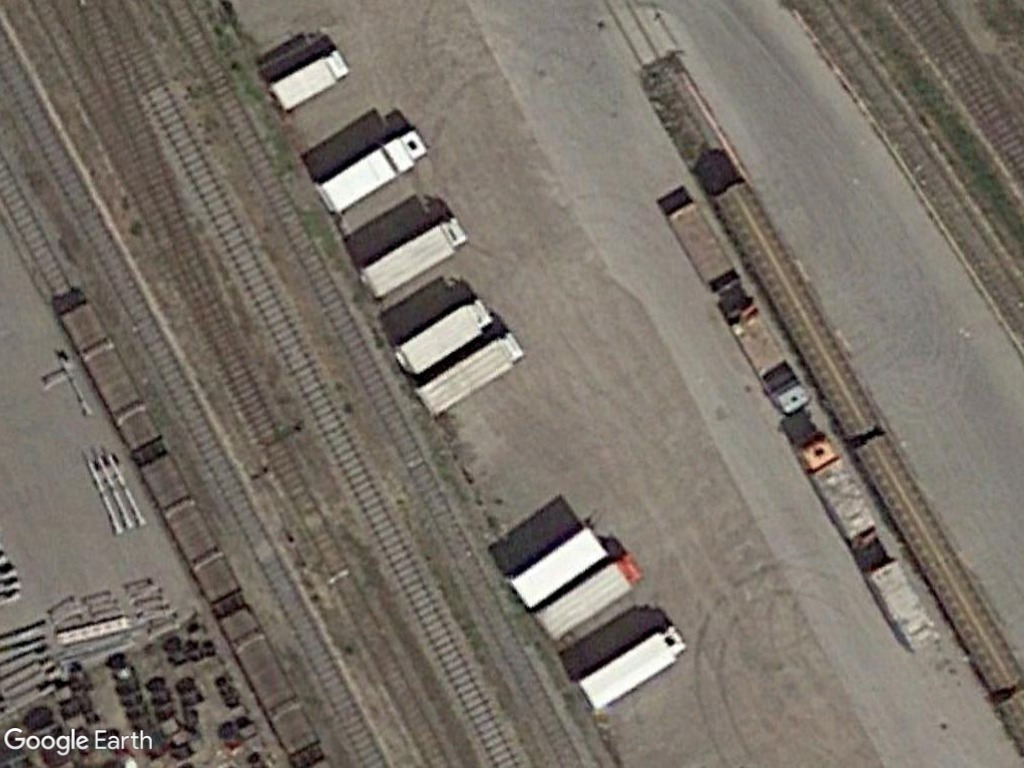truck: (409, 330, 529, 426), (575, 620, 690, 717), (532, 549, 642, 646), (358, 213, 468, 305), (311, 126, 424, 215), (393, 294, 493, 382), (797, 433, 878, 541), (266, 44, 356, 114)
